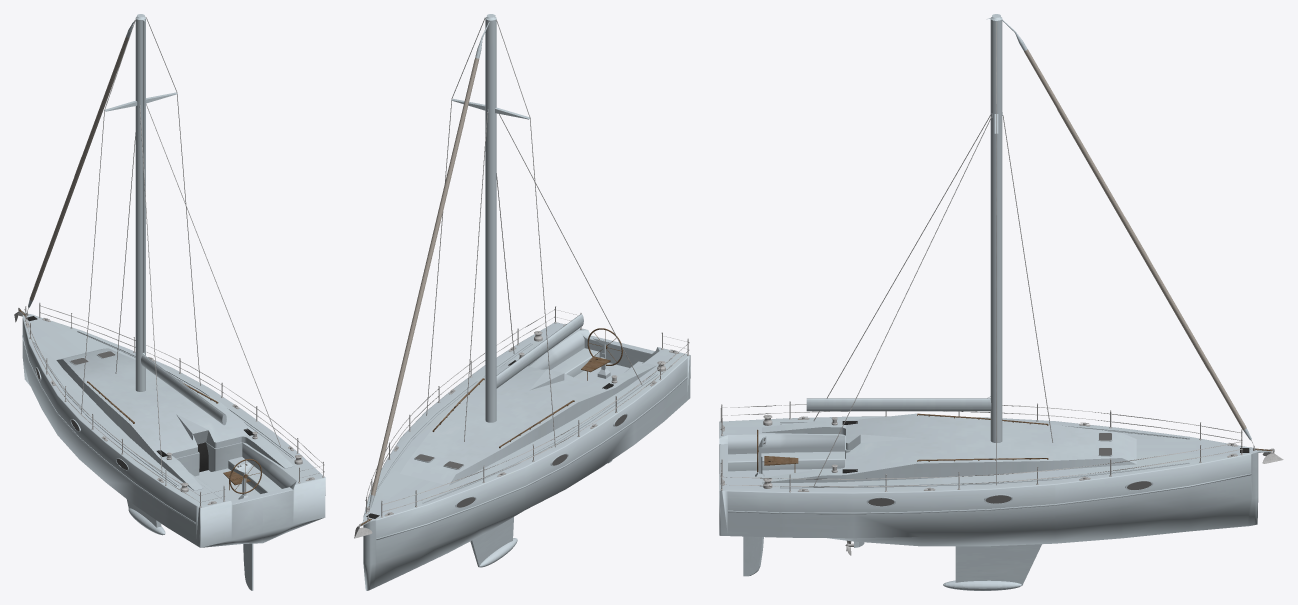
3 views of the same model, side by side, from view 1: azimuth 30°, elevation 25°; view 2: azimuth 150°, elevation 25°; view 3: azimuth 270°, elevation 25° (orthographic). The views are drawn at different scales.
Visible parts, largest first — view 1: govde_fiberglass_0, ustgovde_fiberglass_0, direk_fiberglass_0, ip.001_metal_0, camadanyelkeni_bez_0, yankoruma_metal_0.002, yankoruma_metal_0, salma_fiberglass_0, rudder_fiberglass_0; view 2: govde_fiberglass_0, ustgovde_fiberglass_0, direk_fiberglass_0, camadanyelkeni_bez_0, ip.001_metal_0, salma_fiberglass_0, yankoruma_metal_0.002, yankoruma_metal_0; view 3: govde_fiberglass_0, ustgovde_fiberglass_0, direk_fiberglass_0, salma_fiberglass_0, camadanyelkeni_bez_0, yankoruma_metal_0, ip.001_metal_0, yankoruma_metal_0.002, rudder_fiberglass_0.
Part boxes in pixels (box(x1,y1,x2,y2)): govde_fiberglass_0: box(19, 311, 325, 547); ustgovde_fiberglass_0: box(56, 348, 293, 490); direk_fiberglass_0: box(105, 14, 226, 425); ip.001_metal_0: box(81, 17, 280, 475); camadanyelkeni_bez_0: box(29, 36, 128, 300); yankoruma_metal_0.002: box(24, 306, 323, 501); yankoruma_metal_0: box(24, 302, 324, 502); salma_fiberglass_0: box(126, 499, 165, 535); rudder_fiberglass_0: box(243, 543, 253, 590); govde_fiberglass_0: box(360, 322, 690, 590); ustgovde_fiberglass_0: box(400, 344, 656, 485); direk_fiberglass_0: box(451, 14, 583, 422); camadanyelkeni_bez_0: box(371, 58, 479, 495); ip.001_metal_0: box(426, 17, 642, 447); salma_fiberglass_0: box(470, 517, 517, 567); yankoruma_metal_0.002: box(366, 310, 687, 517); yankoruma_metal_0: box(365, 306, 689, 513); govde_fiberglass_0: box(719, 416, 1271, 546); ustgovde_fiberglass_0: box(762, 413, 1136, 483); direk_fiberglass_0: box(806, 14, 1002, 442); salma_fiberglass_0: box(943, 544, 1041, 590); camadanyelkeni_bez_0: box(1024, 49, 1246, 429); yankoruma_metal_0: box(720, 404, 1242, 490); ip.001_metal_0: box(813, 21, 1053, 486); yankoruma_metal_0.002: box(720, 404, 1242, 492); rudder_fiberglass_0: box(743, 536, 763, 576).
Bounding box in the file's own units: 3.48 × 12.05 × 10.73.
Materials: 6 (5 with a texture image).
